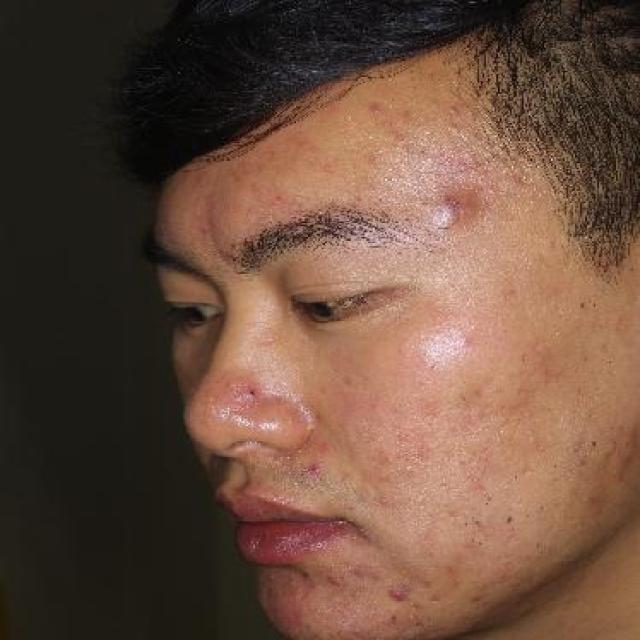dark spot: (599, 412, 638, 494), (387, 104, 424, 150), (387, 580, 416, 606), (322, 568, 352, 592), (301, 459, 330, 483), (238, 377, 265, 401), (366, 91, 385, 118)
nodules: (430, 170, 490, 244)
whiteheads: (459, 329, 474, 348)
